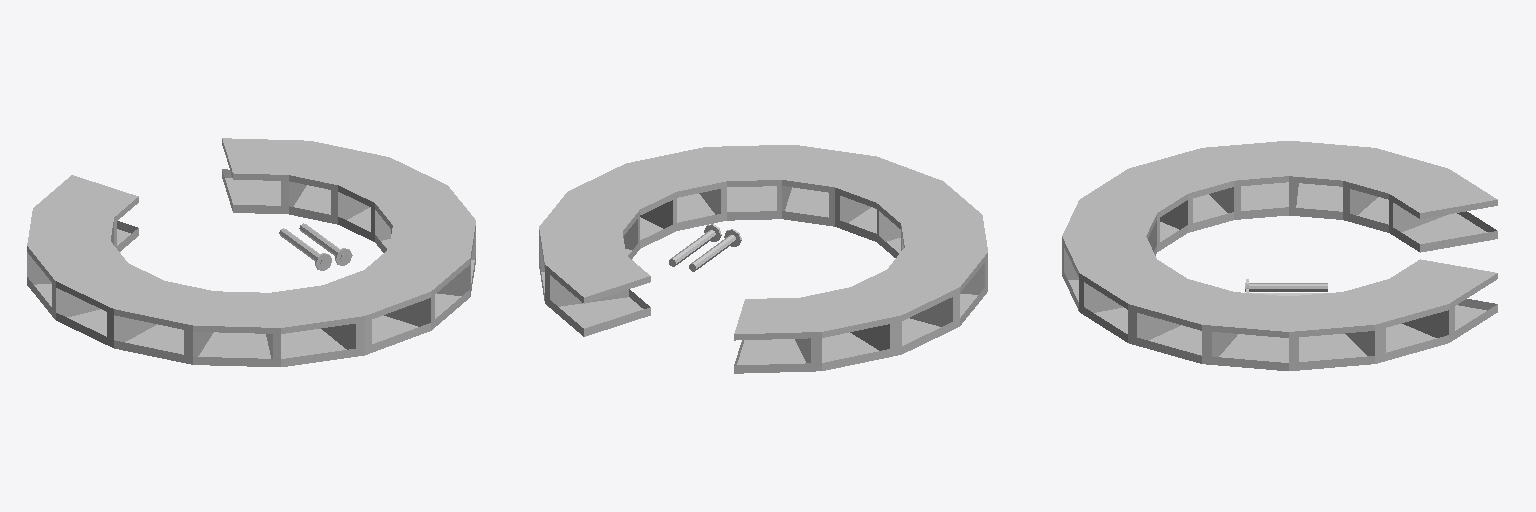
Rendered from Khong wong yai-2.obj.
3 views of the same model, side by side, from view 1: azimuth 30°, elevation 25°; view 2: azimuth 150°, elevation 25°; view 3: azimuth 270°, elevation 25° (orthographic).
Visible parts, largest first — view 1: Circle, Cylinder.001, Cylinder; view 2: Circle, Cylinder, Cylinder.001; view 3: Circle, Cylinder.001.
Part boxes in pixels (left/top/right/bottom): Circle: left=27, top=138, right=475, bottom=366; Cylinder.001: left=279, top=228, right=331, bottom=270; Cylinder: left=299, top=223, right=352, bottom=265; Circle: left=539, top=145, right=987, bottom=373; Cylinder: left=669, top=224, right=721, bottom=266; Cylinder.001: left=689, top=229, right=741, bottom=271; Circle: left=1062, top=141, right=1497, bottom=370; Cylinder.001: left=1245, top=279, right=1327, bottom=291.
Bounding box in the file's own units: 3.18 × 0.3054 × 3.06.